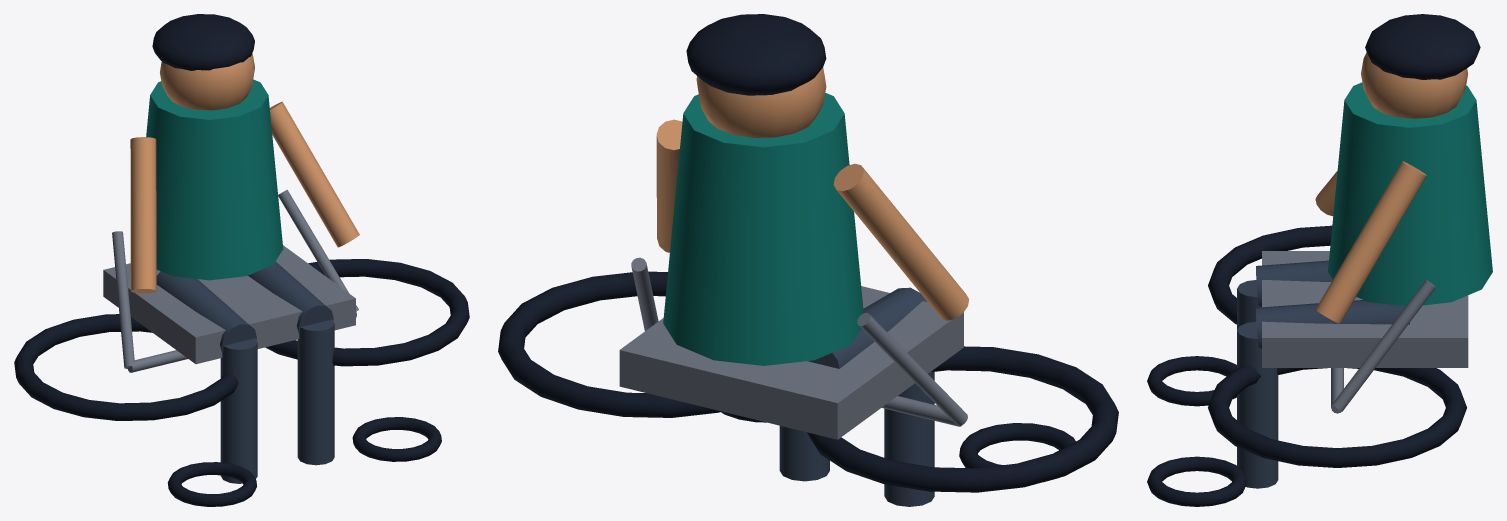
3 renders of one model, left to right at view 1: azimuth 30°, elevation 25°; view 2: azimuth 150°, elevation 25°; view 3: azimuth 270°, elevation 25°, orthographic. The views are drawn at different scales.
Parts seen in each view (by area): view 1: person-wheelchair; view 2: person-wheelchair; view 3: person-wheelchair.
Boxes of the visible parts, box(x1,y1,x2,y2) form: person-wheelchair: box(14, 14, 469, 506); person-wheelchair: box(498, 14, 1118, 506); person-wheelchair: box(1147, 14, 1492, 506).
Bounding box in the file's own units: 1.29 × 1.13 × 0.8136.
